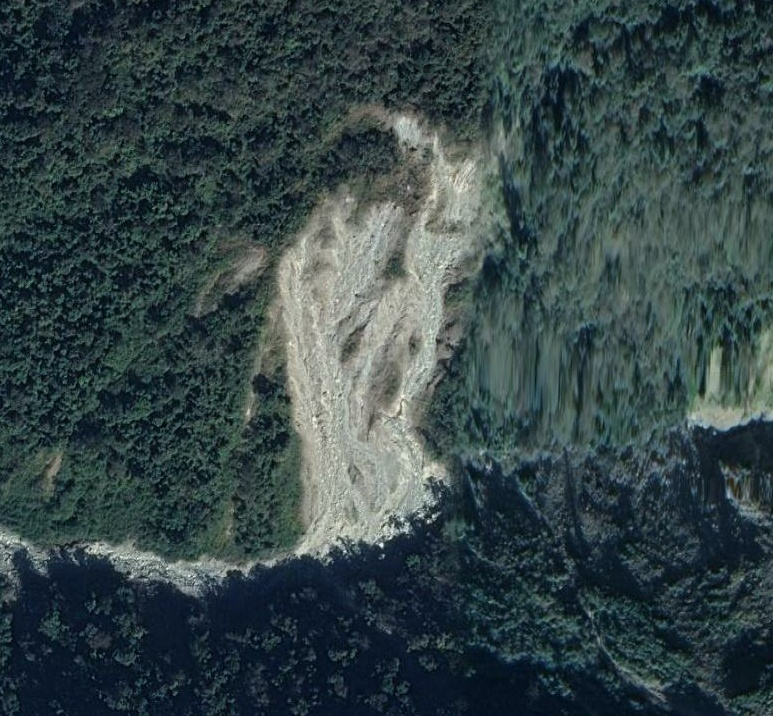slope: (265, 105, 519, 565)
